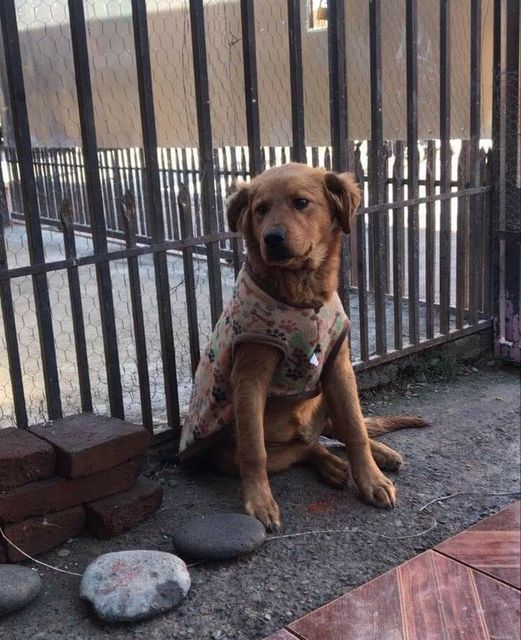dog: (172, 140, 446, 520)
